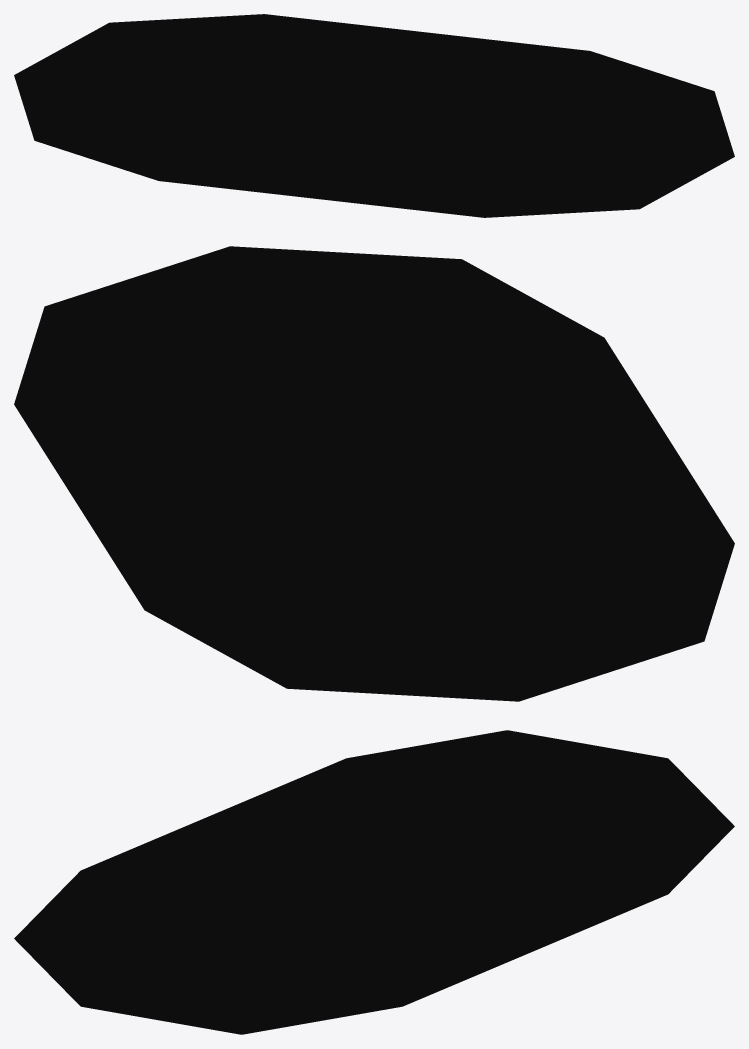
The picture shows the model from 3 angles, top to bottom: view 1: azimuth 30°, elevation 25°; view 2: azimuth 150°, elevation 25°; view 3: azimuth 270°, elevation 25°; orthographic projection. The views are drawn at different scales.
Parts seen in each view (by area): view 1: Joint_0_Object_0; view 2: Joint_0_Object_0; view 3: Joint_0_Object_0.
Boxes of the visible parts, x1=… form: Joint_0_Object_0: x1=14, y1=14, x2=734, y2=217; Joint_0_Object_0: x1=14, y1=246, x2=734, y2=701; Joint_0_Object_0: x1=14, y1=730, x2=734, y2=1034.
Size of the model in its own units: 95 by 0 by 95.
Materials: 1 (1 with a texture image).
